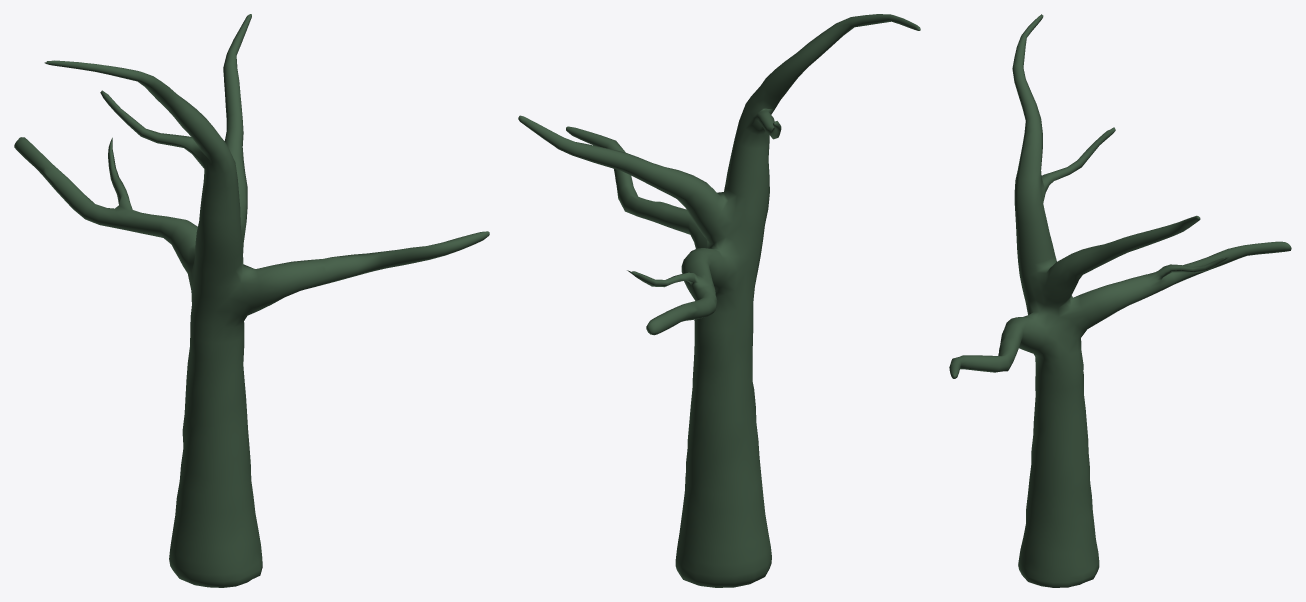
File: Tree3.fbx
3 views of the same model, side by side, from view 1: azimuth 30°, elevation 25°; view 2: azimuth 150°, elevation 25°; view 3: azimuth 270°, elevation 25° (orthographic). The views are drawn at different scales.
Parts seen in each view (by area): view 1: rock1LP:Tree3LP; view 2: rock1LP:Tree3LP; view 3: rock1LP:Tree3LP.
Boxes of the visible parts, x1=… form: rock1LP:Tree3LP: x1=14, y1=14, x2=489, y2=587; rock1LP:Tree3LP: x1=518, y1=14, x2=920, y2=587; rock1LP:Tree3LP: x1=949, y1=14, x2=1291, y2=587.
Bounding box in the file's own units: 14.2 × 19.37 × 12.41.
